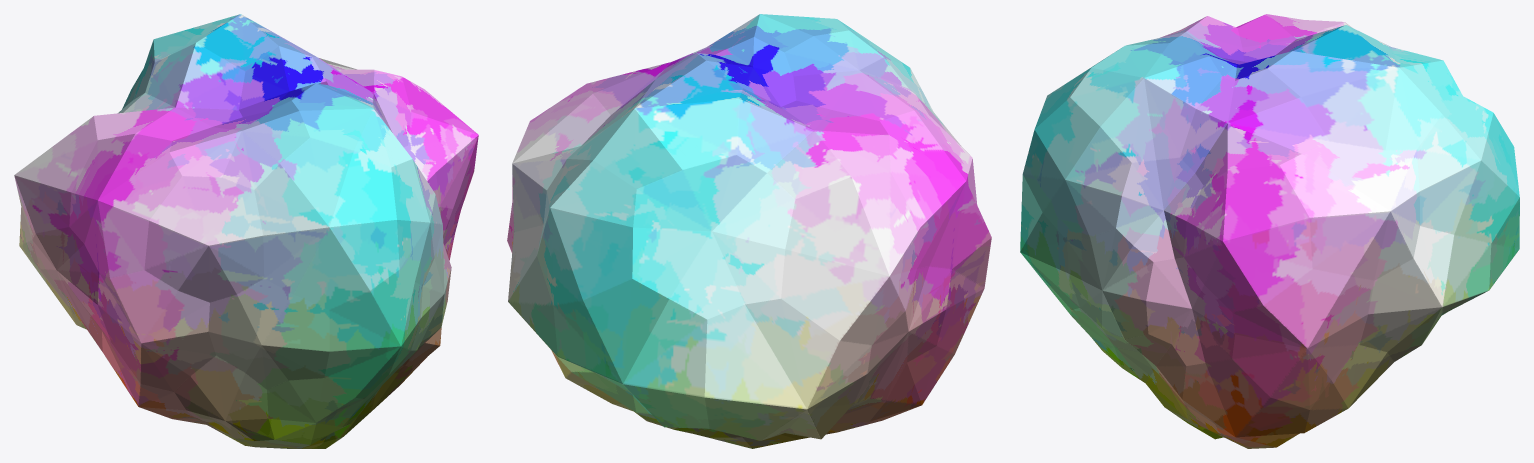
Rendered from RainbowRock1.glb.
3 renders of one model, left to right at view 1: azimuth 30°, elevation 25°; view 2: azimuth 150°, elevation 25°; view 3: azimuth 270°, elevation 25°, orthographic. The views are drawn at different scales.
Visible parts, largest first — view 1: RainbowRock1; view 2: RainbowRock1; view 3: RainbowRock1.
Boxes of the visible parts, box(x1,y1,x2,y2) form: RainbowRock1: box(14, 14, 478, 448); RainbowRock1: box(507, 14, 991, 448); RainbowRock1: box(1020, 14, 1519, 448).
Bounding box in the file's own units: 3.98 × 3.53 × 4.22.
1 material, 1 textured.
